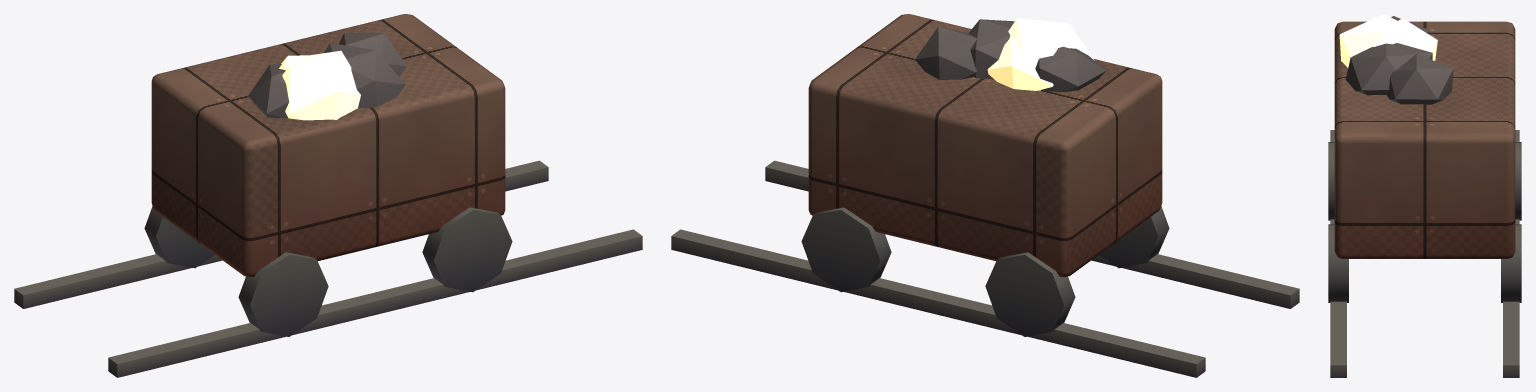
File: vagonete-lava.glb
3 views of the same model, side by side, from view 1: azimuth 30°, elevation 25°; view 2: azimuth 150°, elevation 25°; view 3: azimuth 270°, elevation 25° (orthographic). The views are drawn at different scales.
Parts seen in each view (by area): view 1: vagonete-lava; view 2: vagonete-lava; view 3: vagonete-lava.
Part boxes in pixels (x1,y1,x2,y2): vagonete-lava: (14, 14, 642, 377); vagonete-lava: (671, 14, 1299, 377); vagonete-lava: (1328, 14, 1521, 377).
Bounding box in the file's own units: 4 × 1.78 × 1.39.
4 materials, 1 textured.
